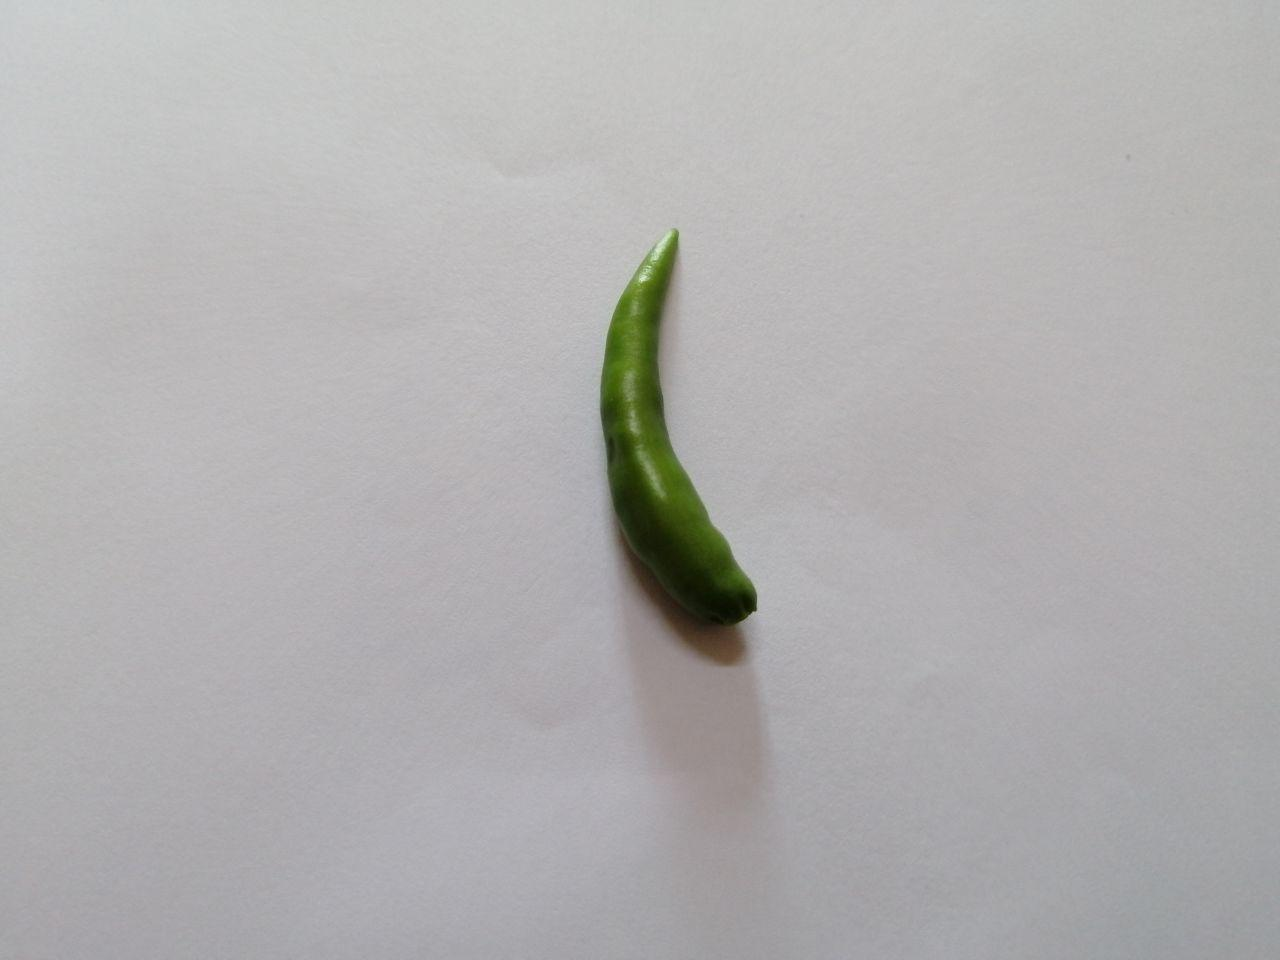lada hijau: (566, 202, 806, 668)
